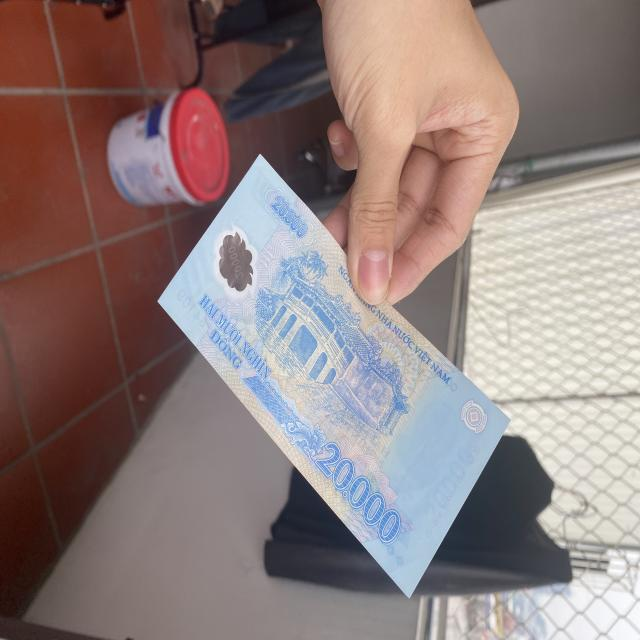20 000 VND: (155, 148, 512, 601)
